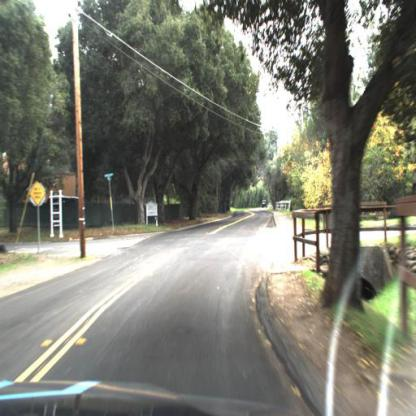car: (260, 195, 273, 213), (261, 198, 269, 210)
